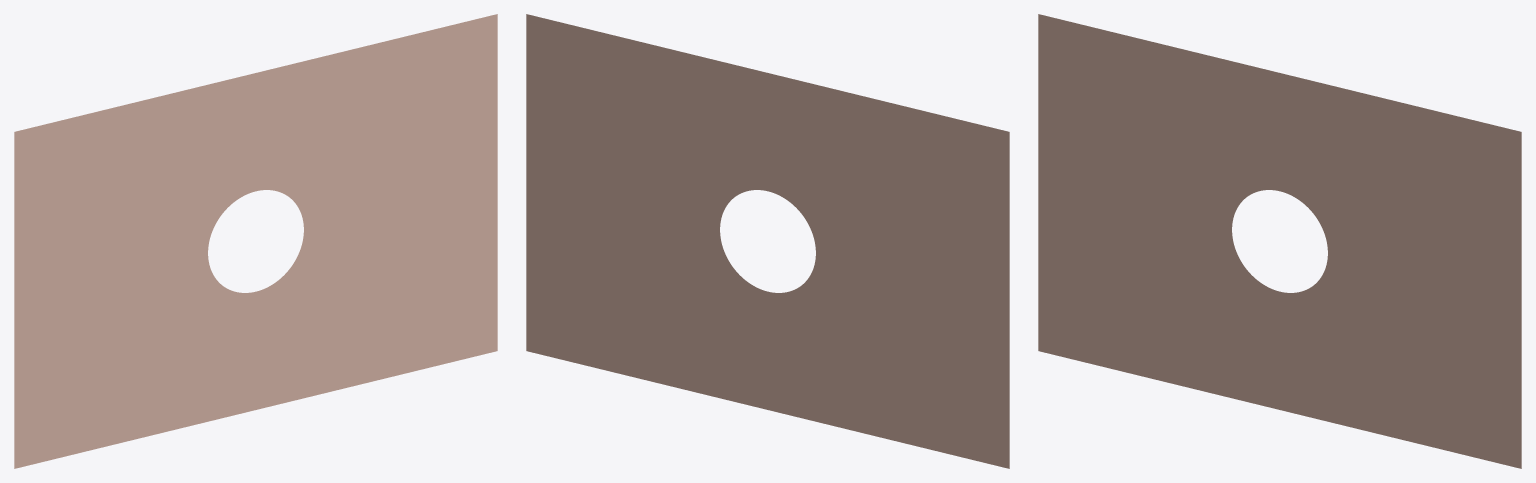
Rendered from scope.gltf.
3 views of the same model, side by side, from view 1: azimuth 30°, elevation 25°; view 2: azimuth 150°, elevation 25°; view 3: azimuth 330°, elevation 25° (orthographic).
Visible parts, largest first — view 1: scope; view 2: scope; view 3: scope.
Part boxes in pixels (left/top/right/bottom): scope: left=14, top=14, right=497, bottom=468; scope: left=526, top=14, right=1009, bottom=468; scope: left=1038, top=14, right=1521, bottom=468.
Bounding box in the file's own units: 6 × 4 × 8.74e-08.
